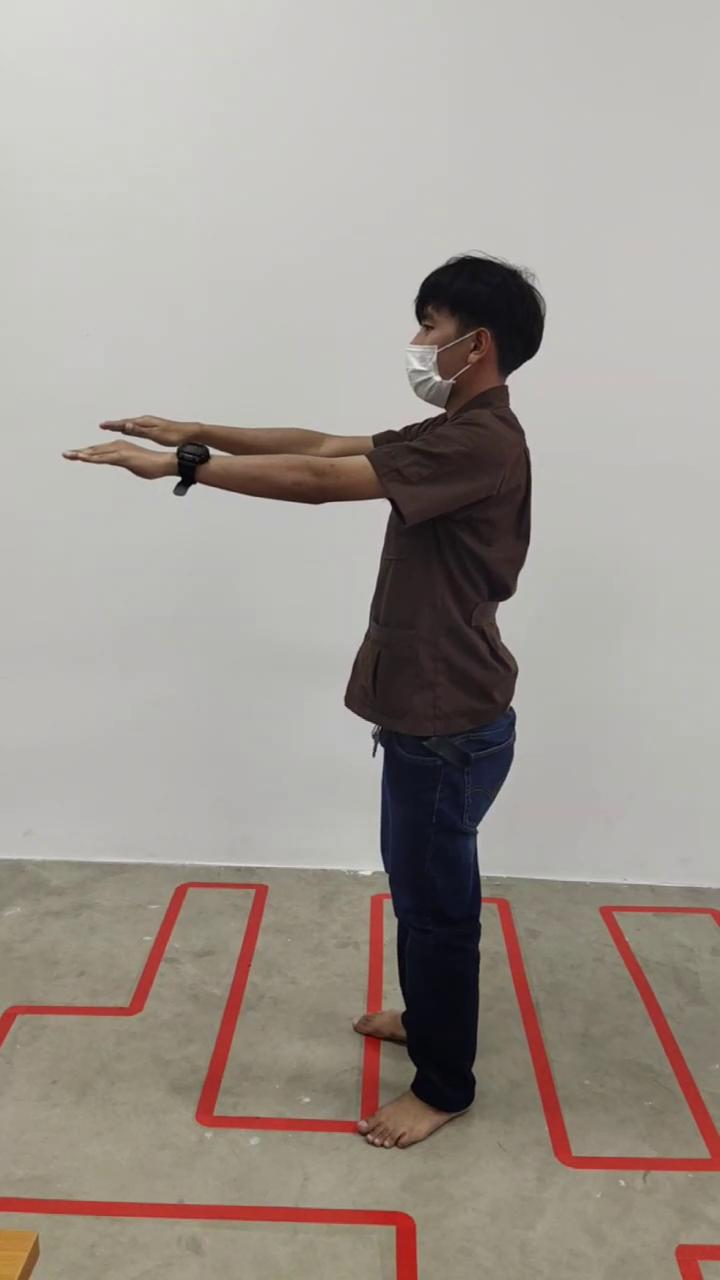squat up: (69, 253, 545, 1151)
